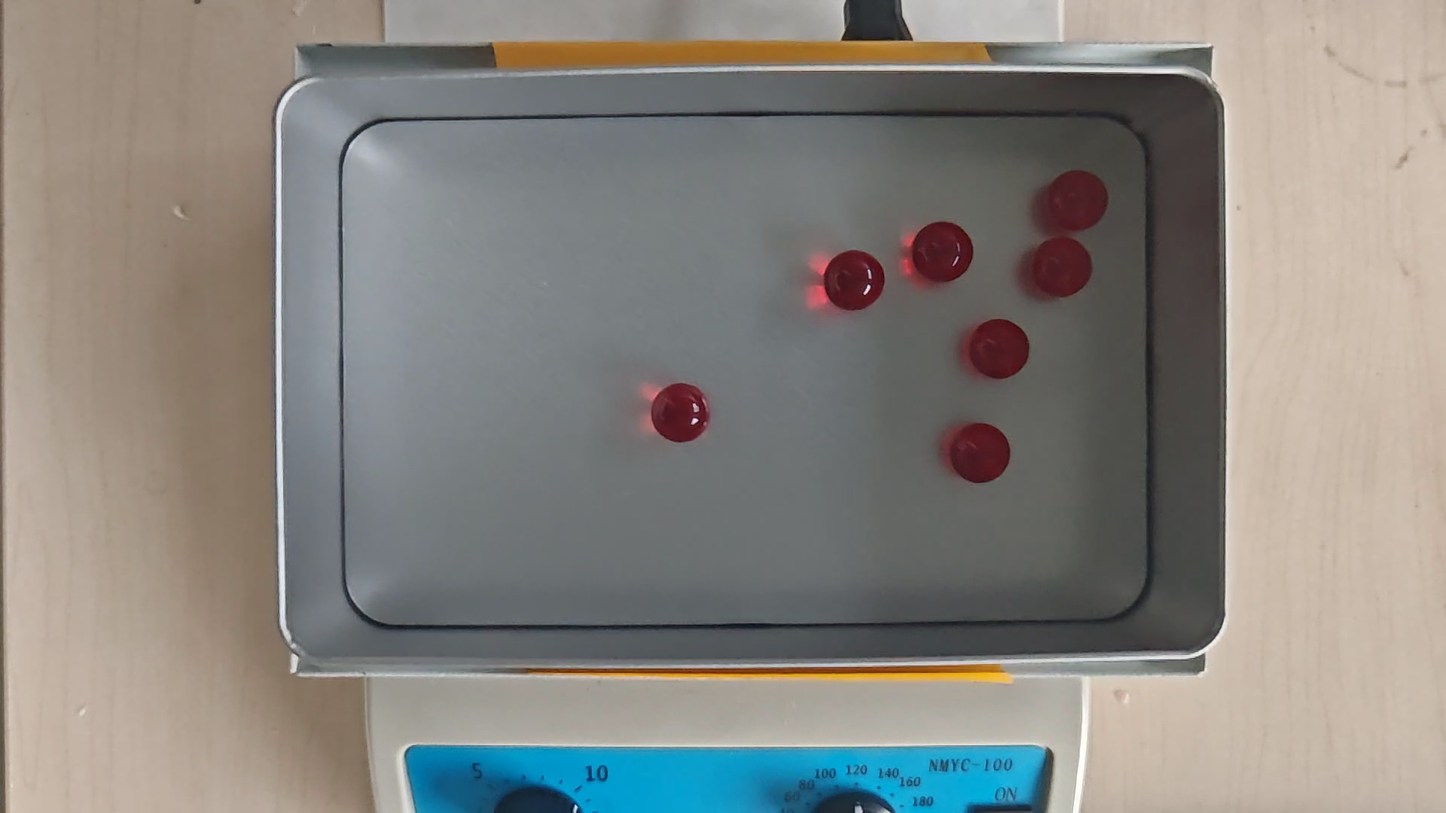ball: (1047, 170, 1109, 231), (952, 421, 1011, 485), (968, 318, 1028, 379), (1030, 236, 1090, 296), (914, 221, 972, 282), (826, 250, 883, 312), (653, 383, 710, 444)
container: (338, 111, 1150, 624)
